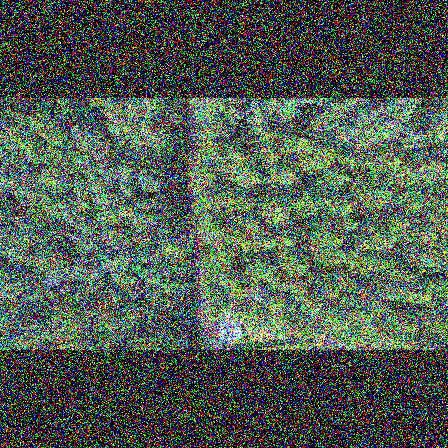Dead: (245, 281, 267, 308), (40, 268, 68, 288)
